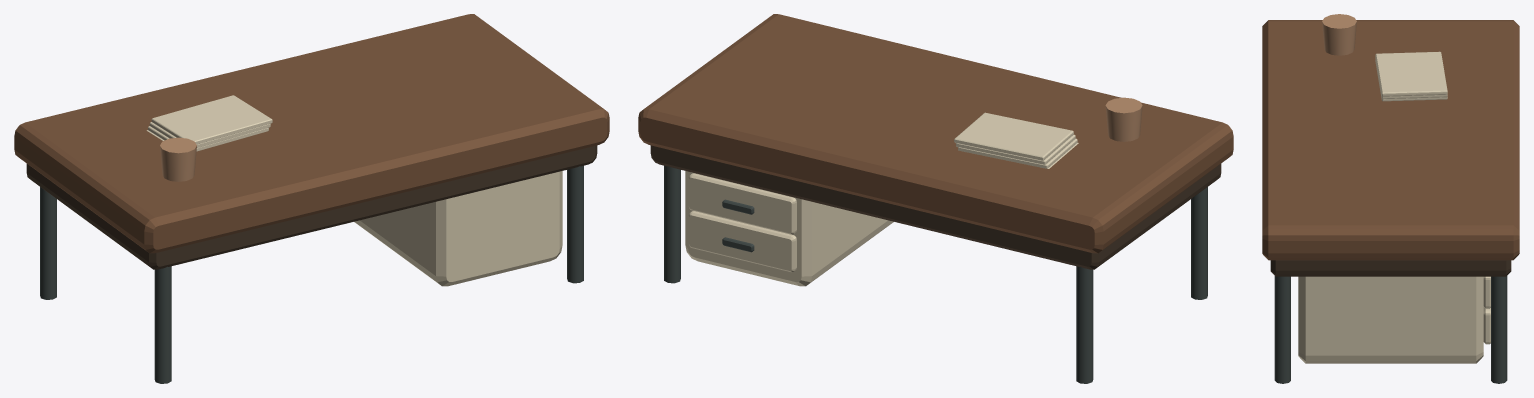
Rendered from desk.glb.
3 views of the same model, side by side, from view 1: azimuth 30°, elevation 25°; view 2: azimuth 150°, elevation 25°; view 3: azimuth 270°, elevation 25° (orthographic). The views are drawn at different scales.
Visible parts, largest first — view 1: desk; view 2: desk; view 3: desk.
Part boxes in pixels (bbox=[...]): desk: bbox=[14, 14, 609, 383]; desk: bbox=[638, 14, 1233, 383]; desk: bbox=[1262, 14, 1519, 383].
Size of the model in its own units: 2.46 by 1.02 by 1.25.
